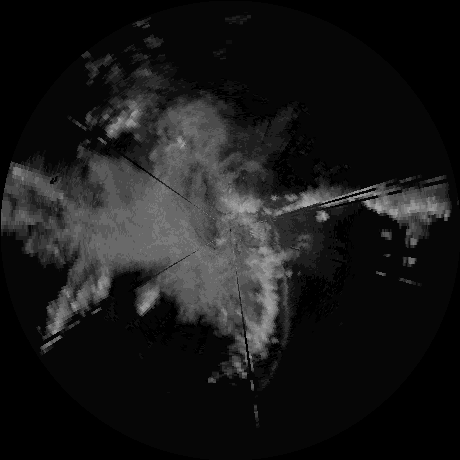frontgust: (266, 266, 291, 382)
